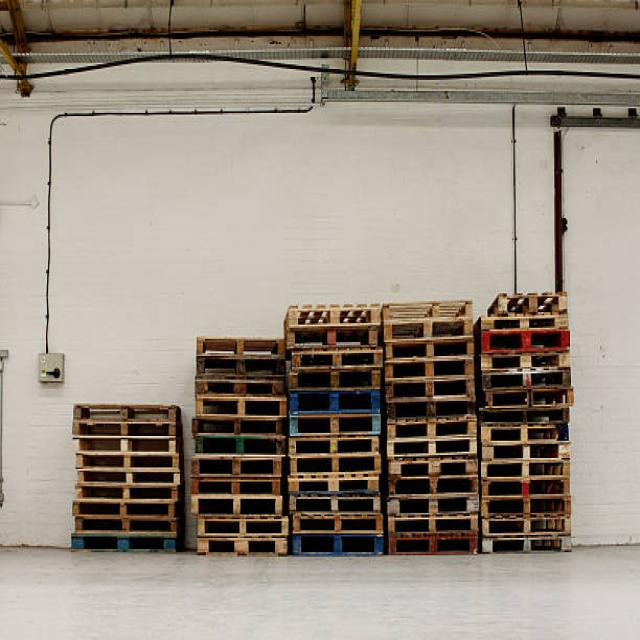Wooden-Pallets: (289, 448, 382, 479), (189, 395, 286, 422), (384, 512, 477, 538), (188, 495, 284, 520), (288, 367, 383, 392), (285, 304, 376, 329), (70, 470, 182, 490), (194, 332, 280, 358), (66, 499, 176, 519), (190, 455, 282, 478), (387, 458, 481, 480), (390, 418, 475, 442), (482, 426, 568, 448), (379, 305, 472, 325), (69, 408, 175, 423)
